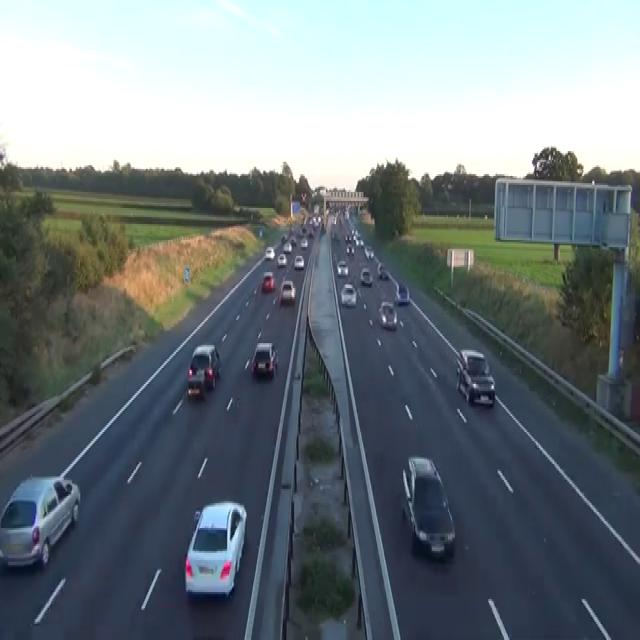Car: (0, 473, 80, 567), (184, 500, 247, 599), (401, 455, 455, 558), (0, 564, 68, 638), (455, 349, 495, 407), (187, 343, 221, 397), (250, 341, 278, 379), (378, 300, 397, 329), (187, 372, 204, 398), (340, 282, 356, 308), (395, 281, 410, 304), (280, 279, 295, 302), (261, 270, 275, 292), (360, 266, 372, 284), (336, 260, 348, 276), (265, 246, 275, 260), (294, 254, 304, 268), (277, 252, 287, 266), (364, 245, 373, 258), (346, 244, 355, 256), (300, 236, 308, 249), (379, 269, 389, 279), (283, 242, 291, 252), (331, 229, 338, 240), (344, 231, 351, 242), (289, 235, 296, 245), (377, 262, 382, 276), (280, 233, 287, 242), (332, 251, 337, 263), (358, 238, 364, 247), (301, 224, 307, 233), (308, 228, 314, 236), (355, 231, 361, 238), (344, 210, 349, 218), (345, 246, 350, 254), (259, 228, 262, 236)
